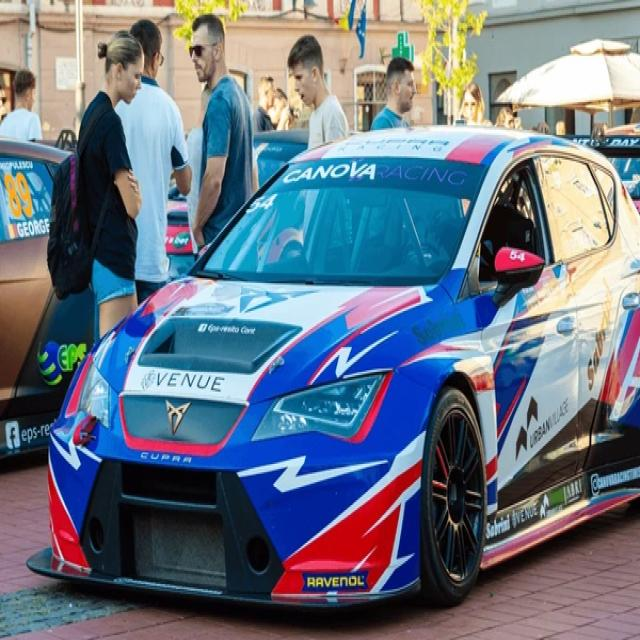cupra: (165, 397, 192, 438)
